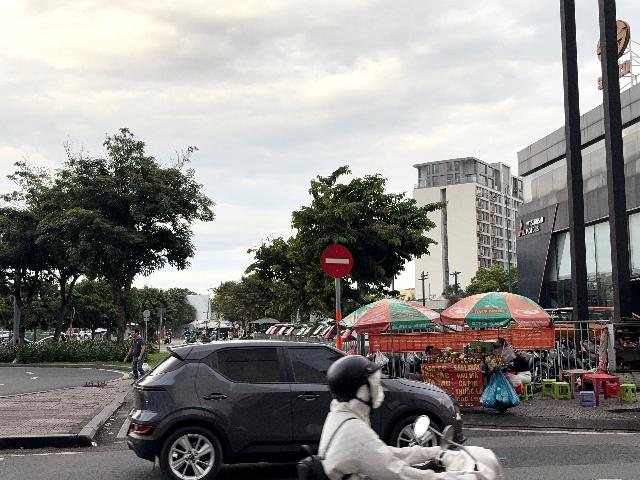cam-di-nguoc-chieu: (321, 245, 354, 278)
